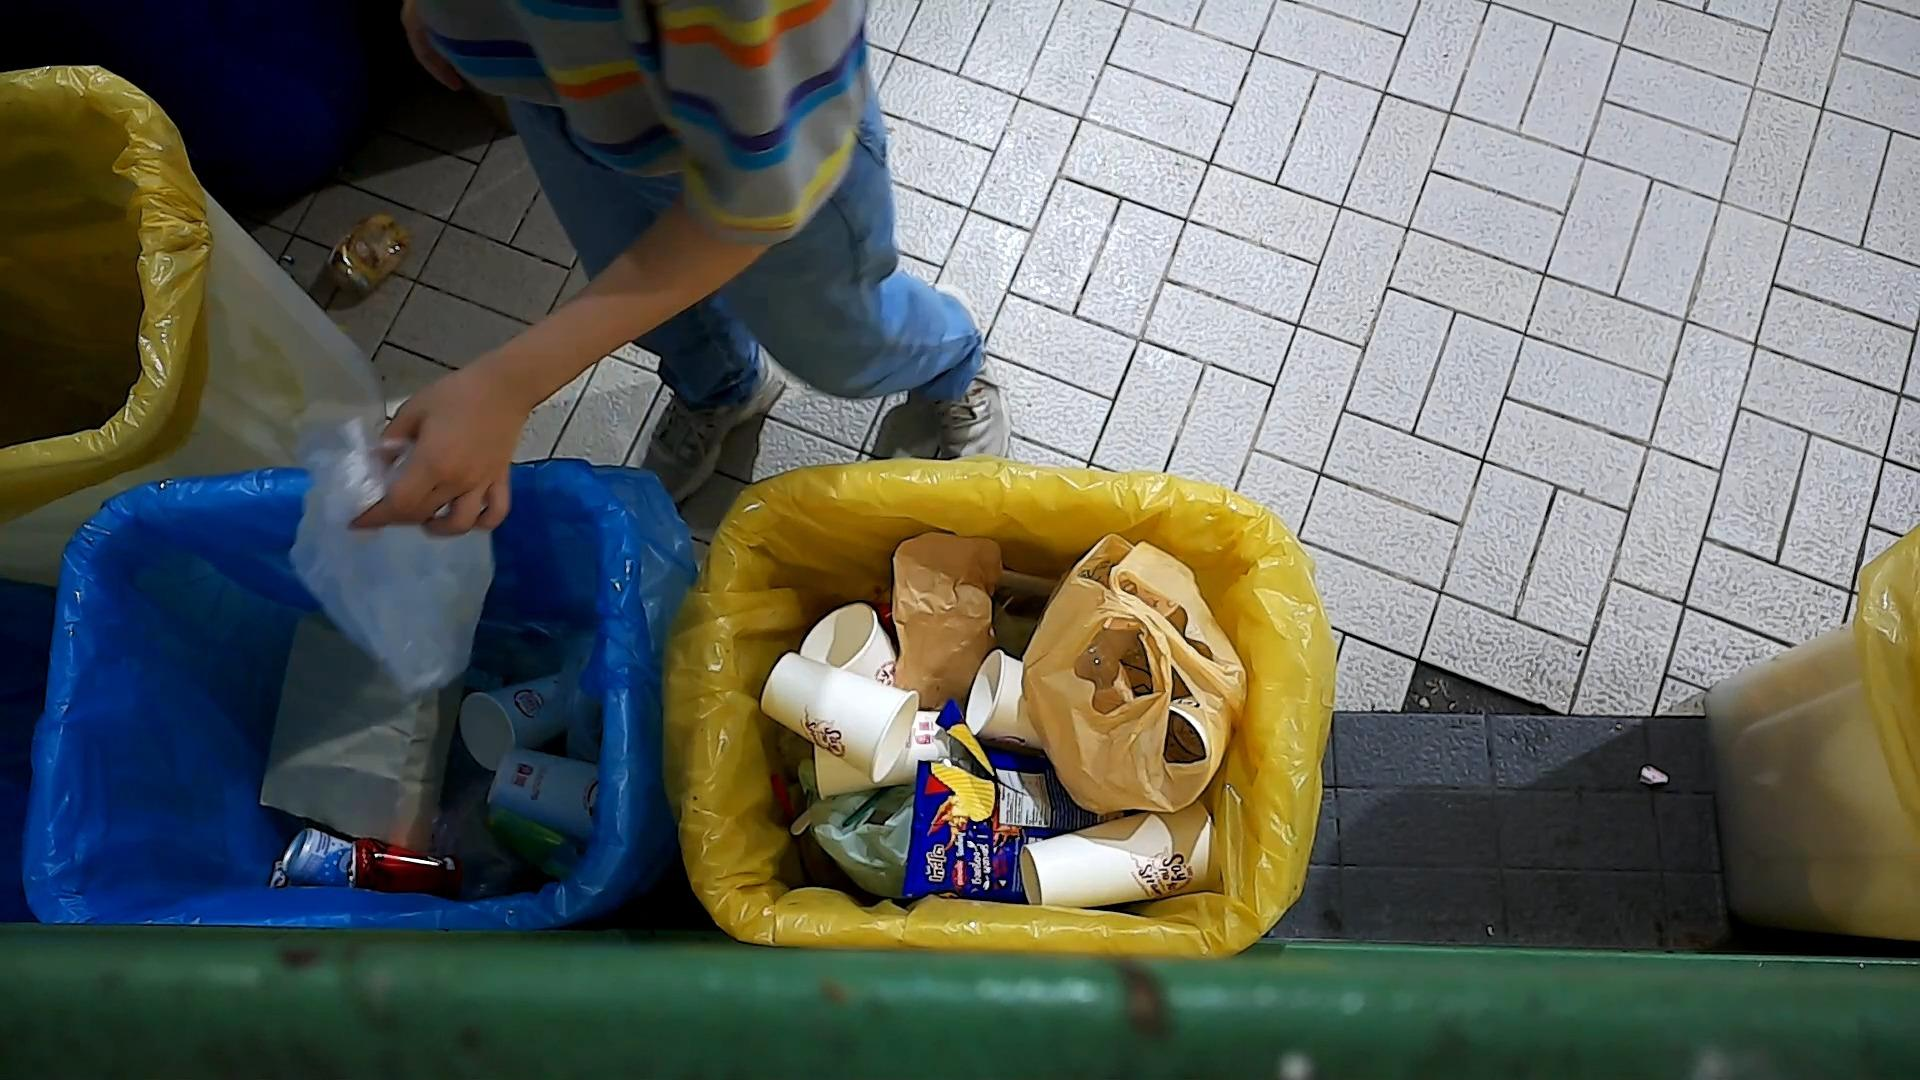can: (344, 832, 467, 903), (480, 804, 588, 884), (272, 825, 356, 887)
filled plastic bag: (1011, 521, 1258, 822)
paper bag: (248, 597, 471, 866), (887, 531, 1005, 708)
plastic bag: (280, 385, 501, 705)
snack packaging: (898, 692, 1096, 913)
zero waste cup: (1015, 795, 1226, 914), (754, 646, 919, 790), (456, 665, 574, 777), (481, 741, 603, 845), (796, 599, 901, 696), (961, 644, 1048, 756)
